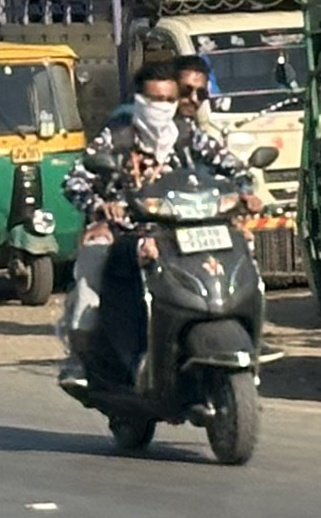BikeWithRider: (47, 53, 284, 472)
NoHelmet: (131, 60, 185, 132), (170, 51, 210, 123)
